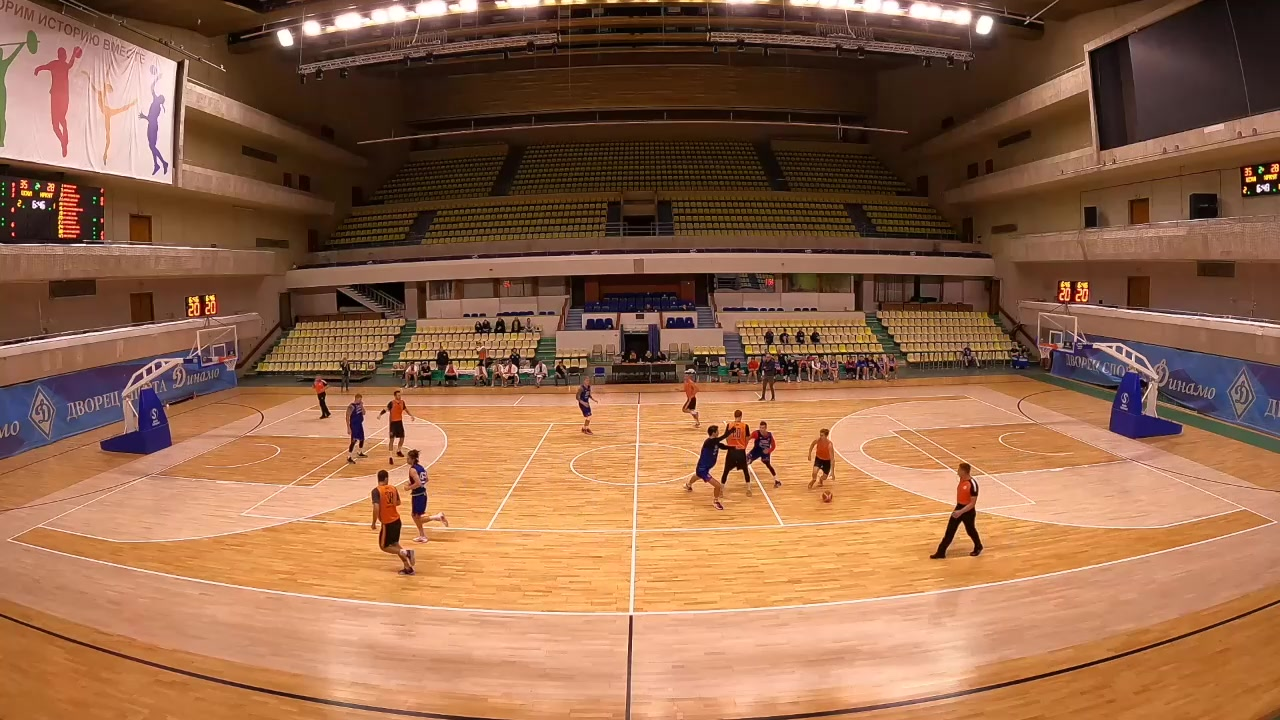basketball: (817, 472, 838, 495)
